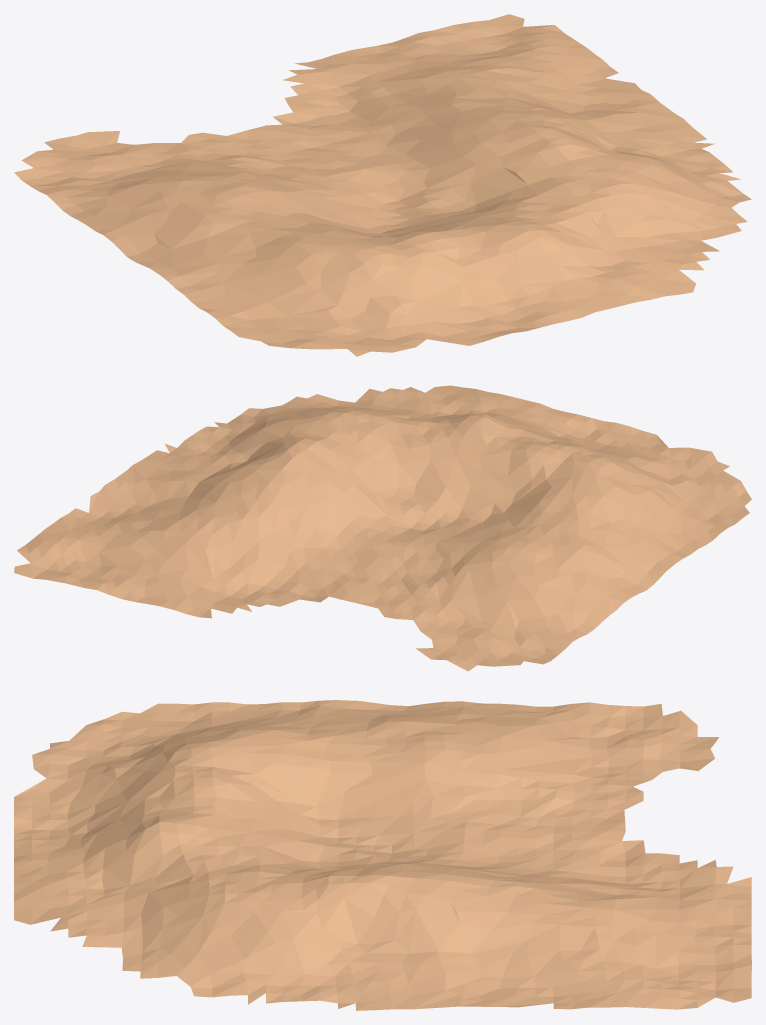
The model's file is Atoll.fbx.
3 renders of one model, top to bottom at view 1: azimuth 30°, elevation 25°; view 2: azimuth 150°, elevation 25°; view 3: azimuth 270°, elevation 25°, orthographic. The views are drawn at different scales.
Visible parts, largest first — view 1: Plane; view 2: Plane; view 3: Plane.
Part boxes in pixels (x1,y1,x2,y2): Plane: [14, 14, 751, 356]; Plane: [14, 385, 751, 671]; Plane: [14, 700, 751, 1010].
Bounding box in the file's own units: 2933 × 3002 × 225.
